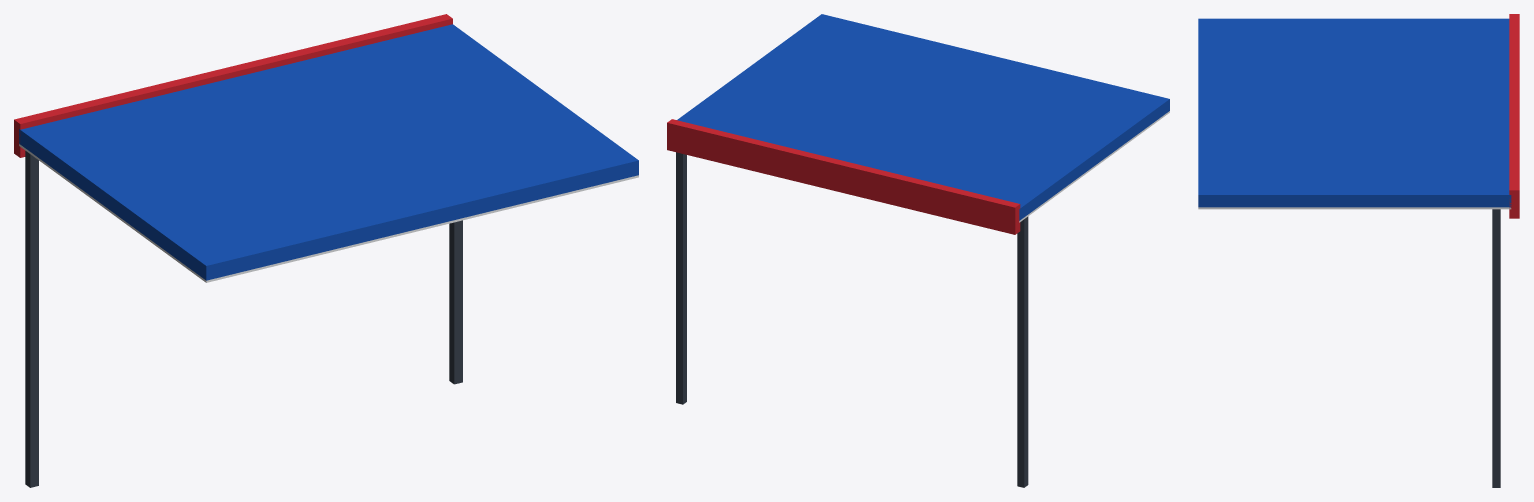
The model's file is Canopy.obj.
3 renders of one model, left to right at view 1: azimuth 30°, elevation 25°; view 2: azimuth 150°, elevation 25°; view 3: azimuth 270°, elevation 25°, orthographic. The views are drawn at different scales.
Visible parts, largest first — view 1: Canopy; view 2: Canopy; view 3: Canopy.
Part boxes in pixels (left/top/right/bottom): Canopy: left=14, top=14, right=638, bottom=487; Canopy: left=667, top=14, right=1169, bottom=487; Canopy: left=1198, top=14, right=1519, bottom=487.
Bounding box in the file's own units: 4 × 3.15 × 3.08.
